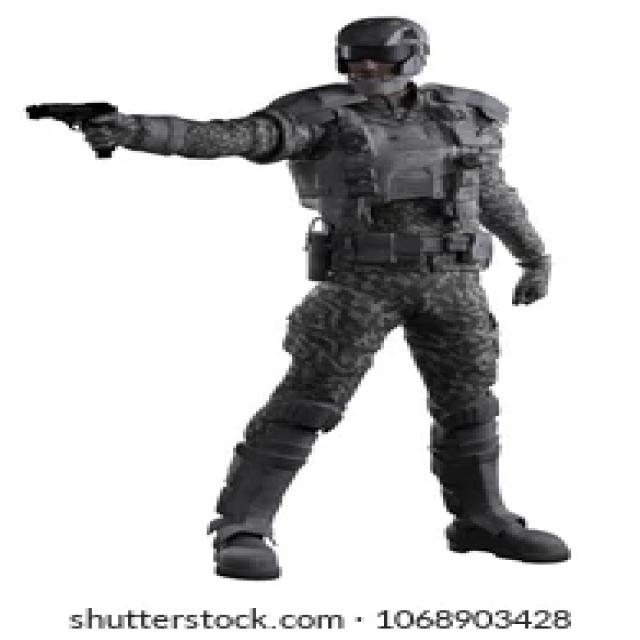soldier: (20, 21, 576, 571)
